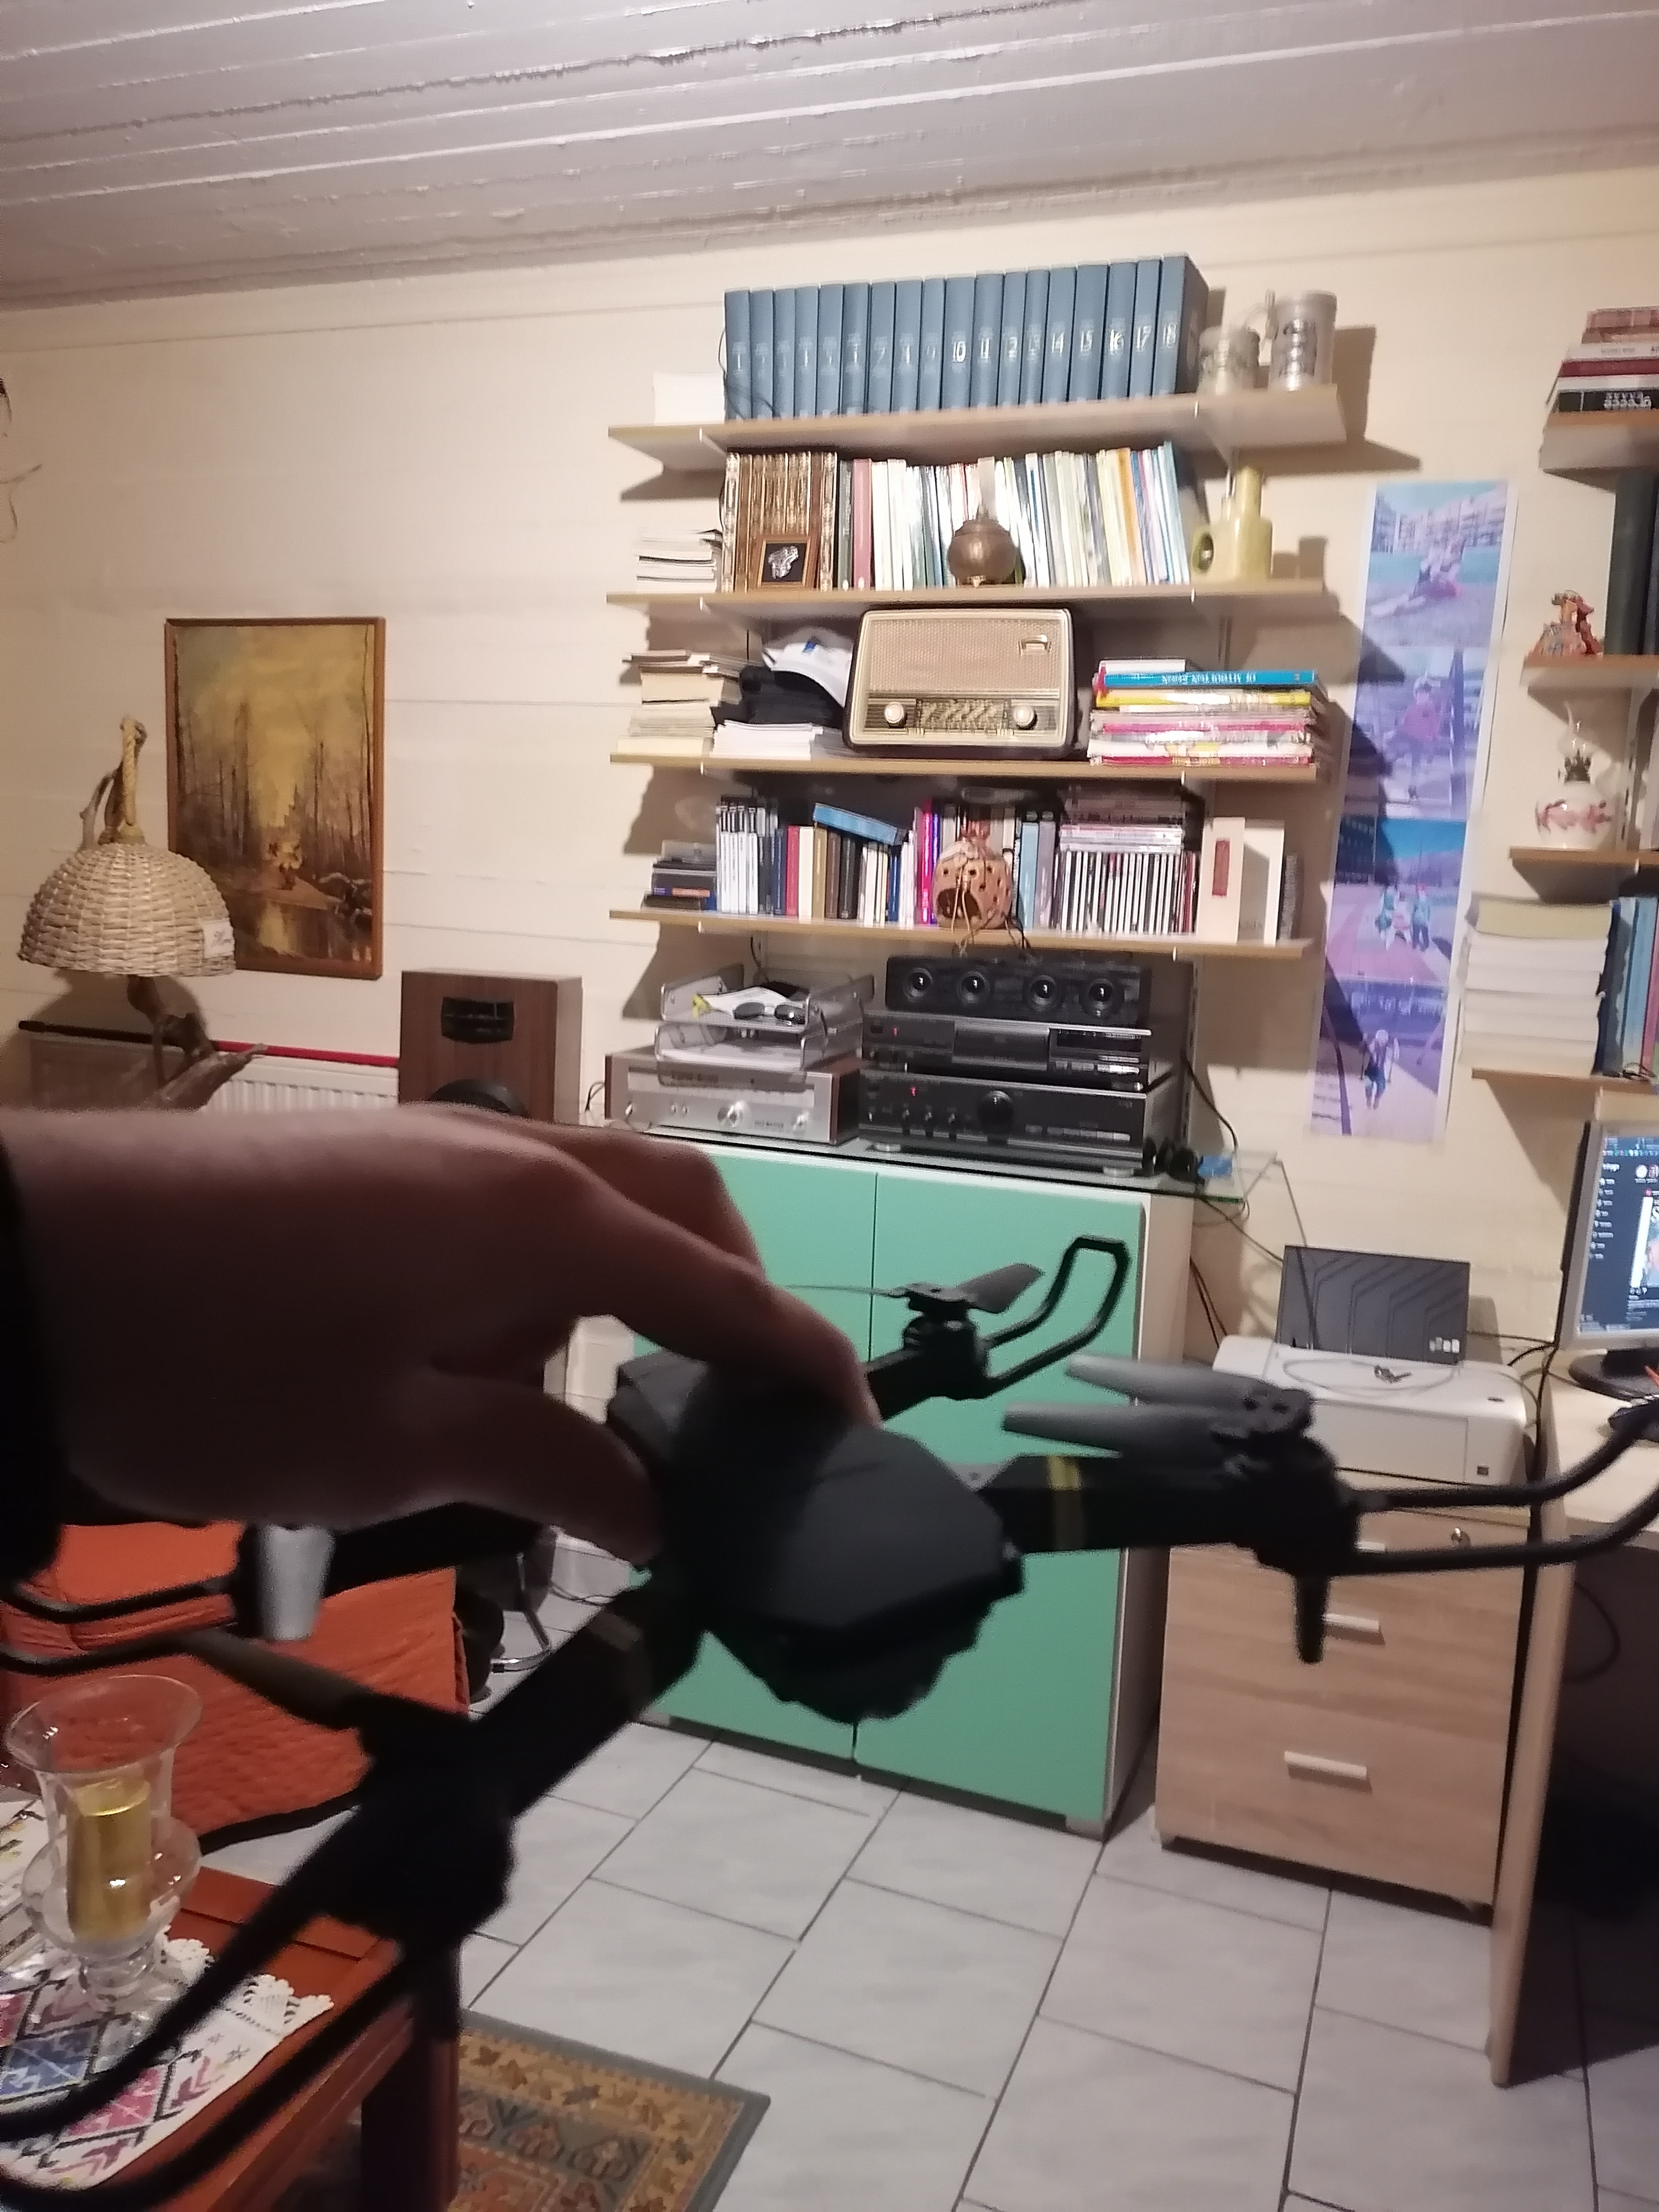drone: (33, 1151, 1647, 2170)
